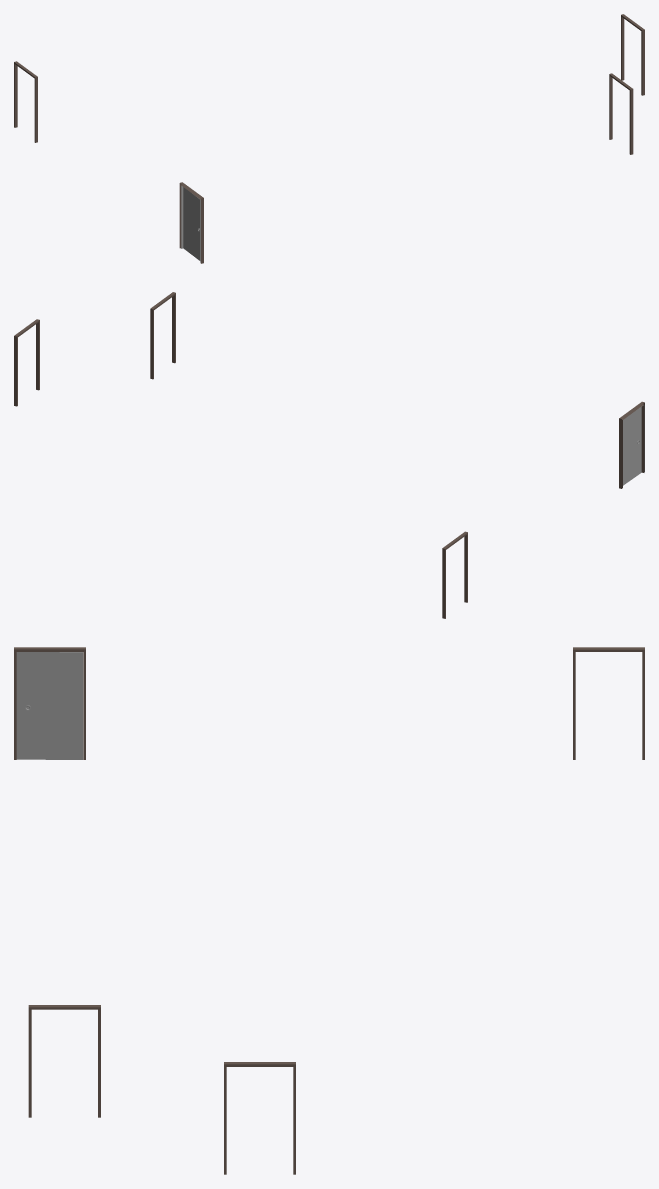
The model's file is door.fbx.
3 views of the same model, one above another, from view 1: azimuth 30°, elevation 25°; view 2: azimuth 150°, elevation 25°; view 3: azimuth 270°, elevation 25° (orthographic). The views are drawn at different scales.
Parts seen in each view (by area): view 1: doors; view 2: doors; view 3: doors.
Part boxes in pixels (x1,y1,x2,y2): doors: (14,14,644,263); doors: (14,292,644,618); doors: (14,647,644,1174).
Size of the model in its own units: 2101 by 260 by 1343.
